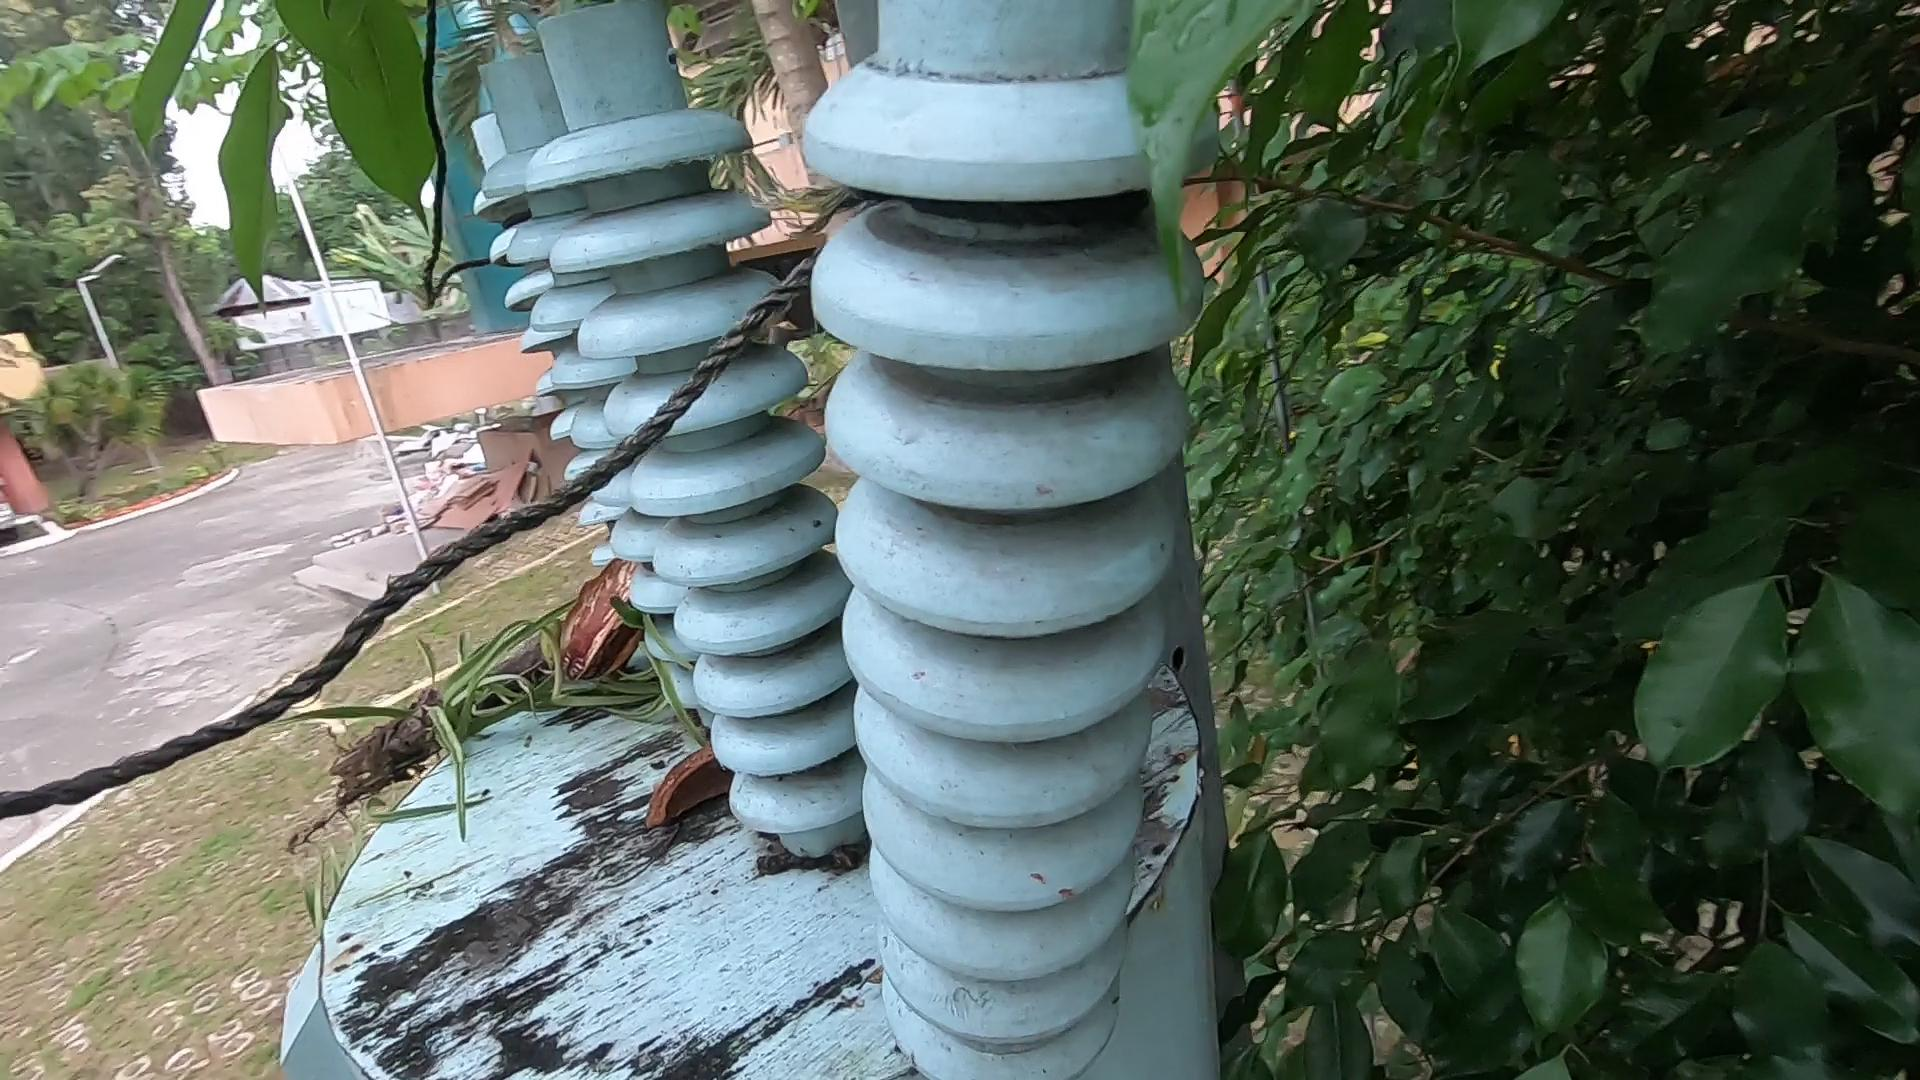branch with leaves: (268, 394, 851, 898)
mahogany fruit: (529, 556, 659, 678), (645, 732, 783, 844)
